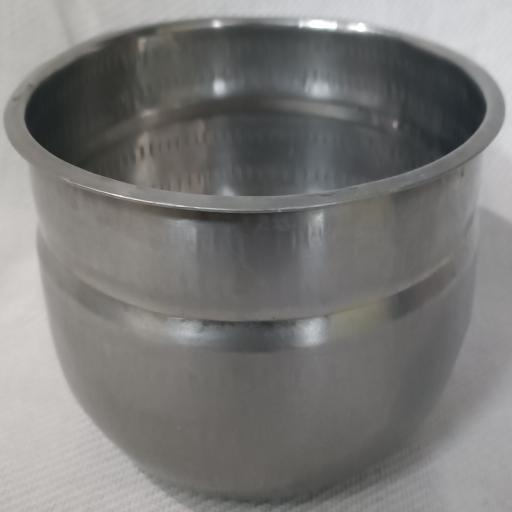vessel: (5, 19, 504, 498)
